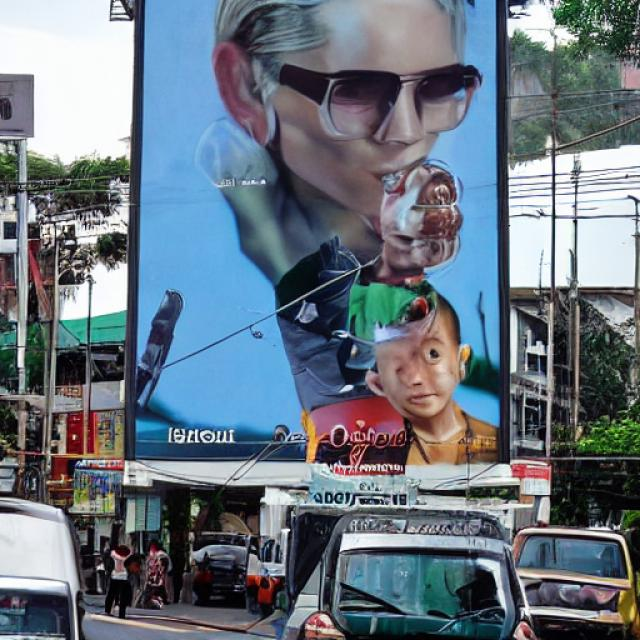Billboard: (128, 0, 513, 500)
